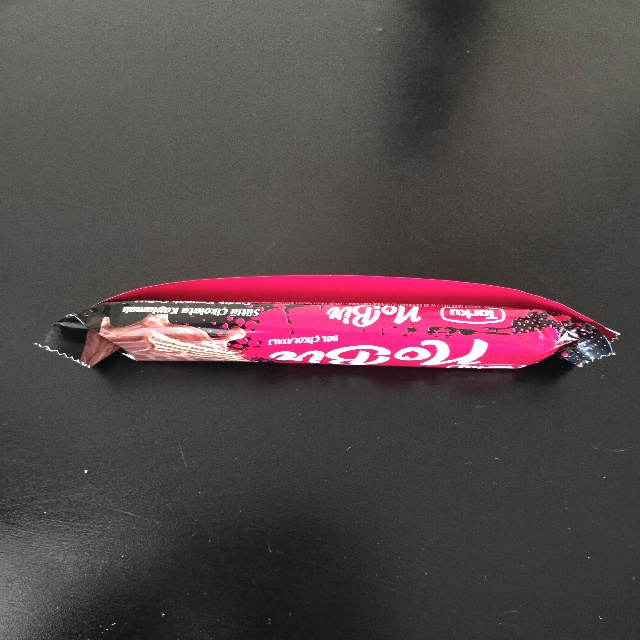torku_nobir_gofret: (40, 270, 615, 378)
